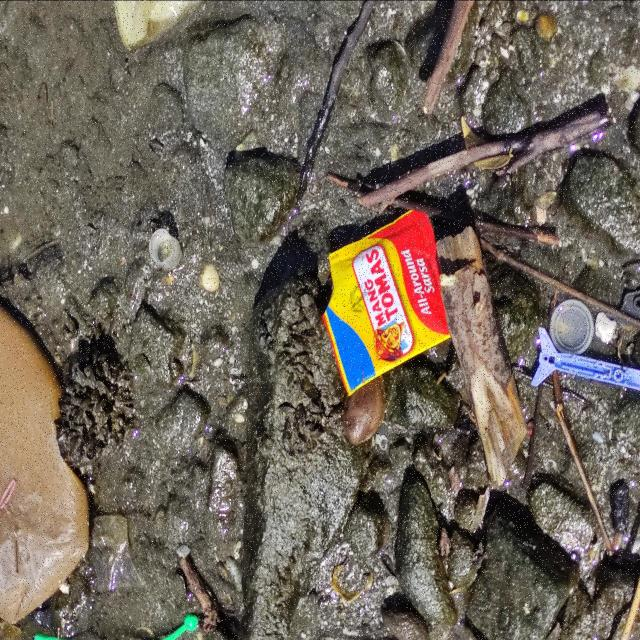plastic_waste: (323, 210, 452, 399), (550, 300, 595, 354)
